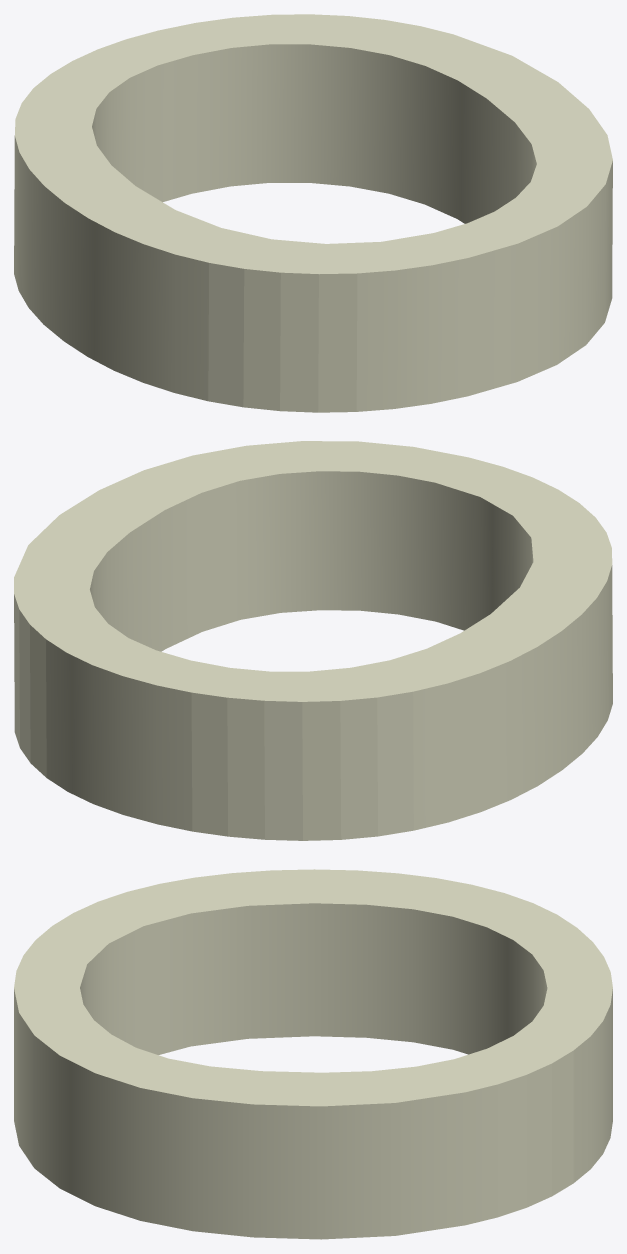
The model's file is original-125.obj.
The picture shows the model from 3 angles, top to bottom: view 1: azimuth 30°, elevation 25°; view 2: azimuth 150°, elevation 25°; view 3: azimuth 270°, elevation 25°; orthographic projection. The views are drawn at different scales.
Parts seen in each view (by area): view 1: mesh195/mesh195-geometry#mesh195-geometry; view 2: mesh195/mesh195-geometry#mesh195-geometry; view 3: mesh195/mesh195-geometry#mesh195-geometry.
Boxes of the visible parts, x1,y1,x2,y2 form: mesh195/mesh195-geometry#mesh195-geometry: [14, 14, 612, 412]; mesh195/mesh195-geometry#mesh195-geometry: [14, 441, 612, 840]; mesh195/mesh195-geometry#mesh195-geometry: [14, 869, 612, 1239].
Bounding box in the file's own units: 0.0146 × 0.00397 × 0.0158.
